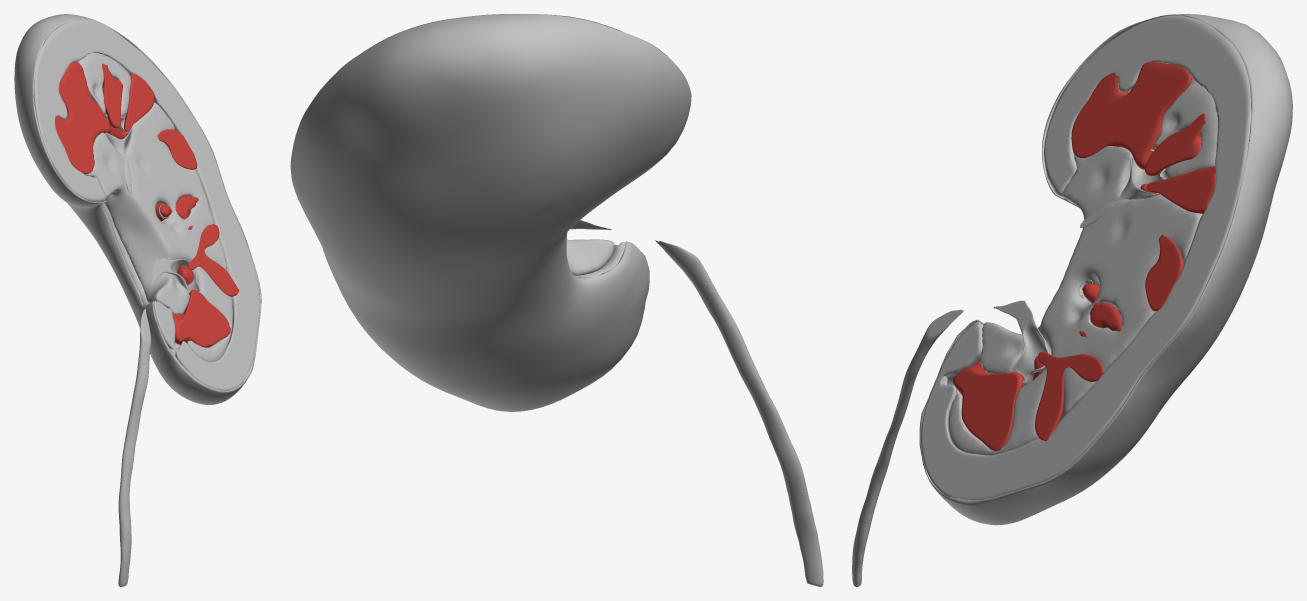
The model's file is VHM_Kidney_L_Bisect_Posterior.fbx.
3 renders of one model, left to right at view 1: azimuth 30°, elevation 25°; view 2: azimuth 150°, elevation 25°; view 3: azimuth 270°, elevation 25°, orthographic. The views are drawn at different scales.
Parts seen in each view (by area): view 1: VHM_Kidney_L_OuterCortex_Posterior, VHM_Kidney_L_RenalColumns_Posterior, VHM_Kidney_L_Pyramids_Posetrior, VHM_Kidney_L_Capsule_Posterior, VHM_Kidney_L_Calyses_Posterior; view 2: VHM_Kidney_L_Capsule_Posterior, VHM_Kidney_L_Calyses_Posterior, VHM_Kidney_L_RenalColumns_Posterior; view 3: VHM_Kidney_L_OuterCortex_Posterior, VHM_Kidney_L_RenalColumns_Posterior, VHM_Kidney_L_Capsule_Posterior, VHM_Kidney_L_Pyramids_Posetrior, VHM_Kidney_L_Calyses_Posterior.
Part boxes in pixels (bbox=[...]): VHM_Kidney_L_OuterCortex_Posterior: bbox=[33, 18, 260, 390]; VHM_Kidney_L_RenalColumns_Posterior: bbox=[77, 52, 232, 362]; VHM_Kidney_L_Pyramids_Posetrior: bbox=[55, 61, 239, 347]; VHM_Kidney_L_Capsule_Posterior: bbox=[14, 14, 261, 404]; VHM_Kidney_L_Calyses_Posterior: bbox=[104, 114, 200, 586]; VHM_Kidney_L_Capsule_Posterior: bbox=[290, 14, 691, 411]; VHM_Kidney_L_Calyses_Posterior: bbox=[570, 219, 823, 586]; VHM_Kidney_L_RenalColumns_Posterior: bbox=[566, 239, 614, 275]; VHM_Kidney_L_OuterCortex_Posterior: bbox=[921, 15, 1251, 499]; VHM_Kidney_L_RenalColumns_Posterior: bbox=[948, 78, 1217, 455]; VHM_Kidney_L_Capsule_Posterior: bbox=[919, 14, 1292, 525]; VHM_Kidney_L_Pyramids_Posetrior: bbox=[952, 62, 1215, 451]; VHM_Kidney_L_Calyses_Posterior: bbox=[852, 149, 1166, 586].
Bounding box in the file's own units: 9.31 × 17.92 × 11.87.
